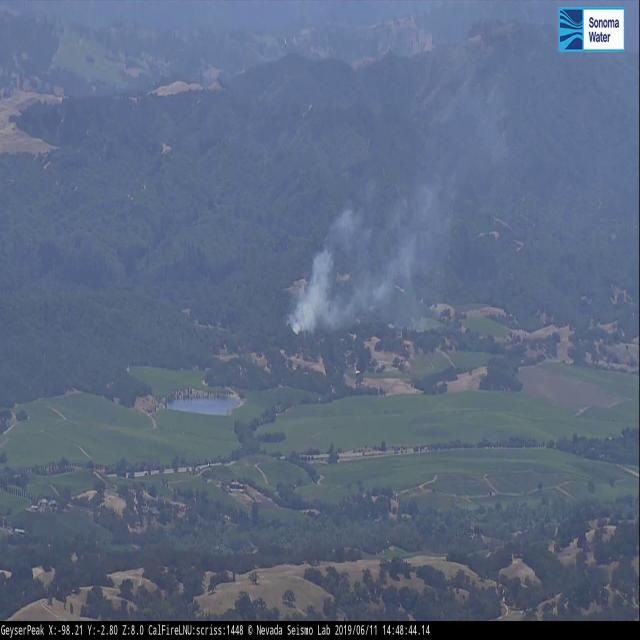smoke: (284, 164, 455, 337)
